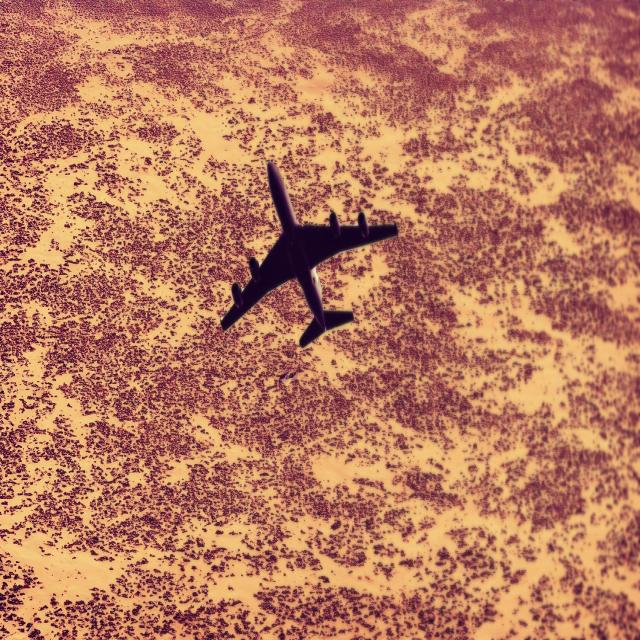airplane: (220, 160, 398, 348)
